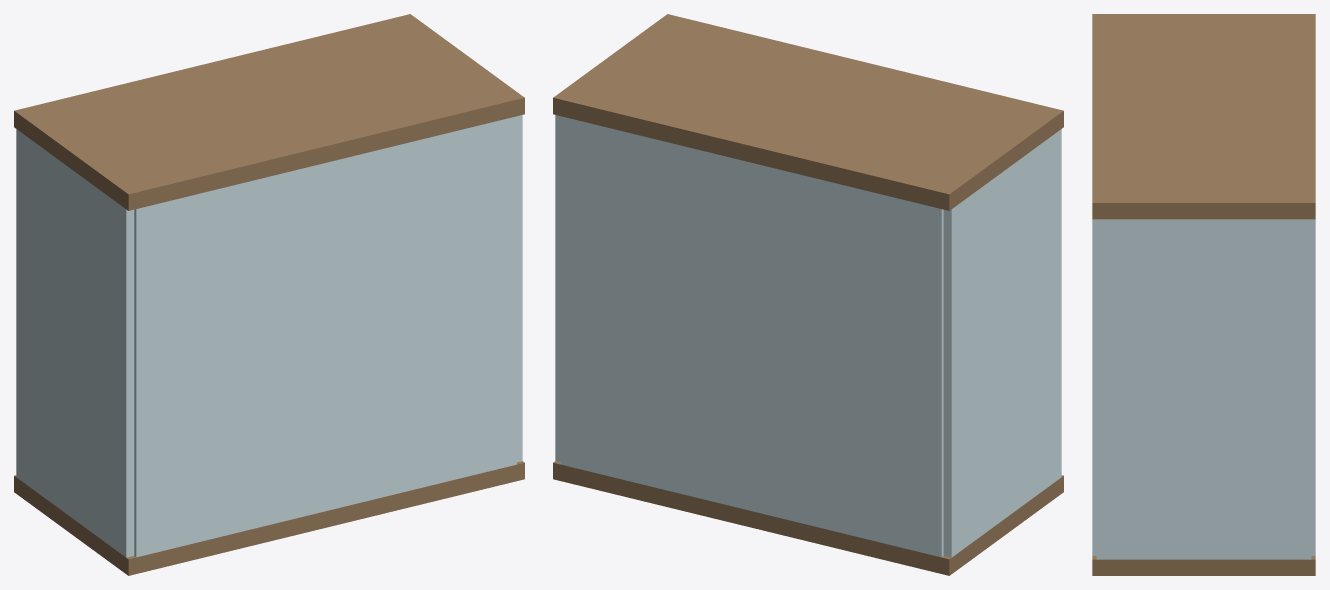
File: display_case.glb
3 renders of one model, left to right at view 1: azimuth 30°, elevation 25°; view 2: azimuth 150°, elevation 25°; view 3: azimuth 270°, elevation 25°, orthographic. The views are drawn at different scales.
Parts seen in each view (by area): view 1: glass, frame; view 2: glass, frame; view 3: glass, frame.
Part boxes in pixels (x1,y1,x2,y2): glass: (16,115,522,557); frame: (14,14,524,575); glass: (555,115,1061,557); frame: (553,14,1063,575); glass: (1092,219,1315,559); frame: (1092,14,1315,575).
Size of the model in its own units: 1 by 0.92 by 0.5.
